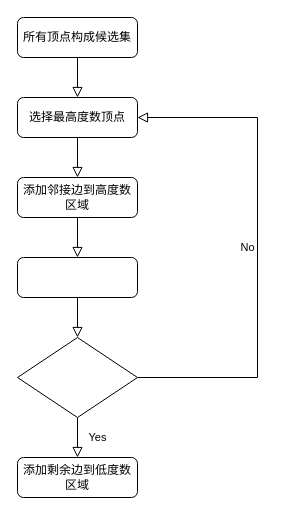
Image size: 285x515. Some labels were removed from this diagram. Each missing label, with the centre of its shape:
"从候选集中删除该顶点" belongs at point 77,277.
"高度数区域占比是否达到50%？" belongs at point 77,377.
